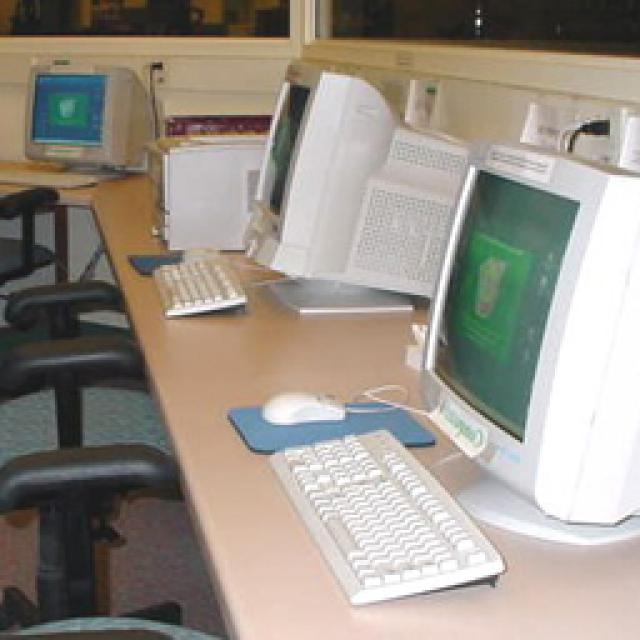desk calendar: (5, 150, 640, 635)
floor -X: (5, 192, 230, 635)
keyboard crop: (270, 422, 508, 602), (158, 250, 252, 315), (5, 158, 100, 185)
monitor crop: (422, 135, 640, 542), (250, 60, 472, 310), (30, 62, 158, 178)
mouse pad: (265, 385, 352, 420)
wall clock: (5, 0, 640, 523)
